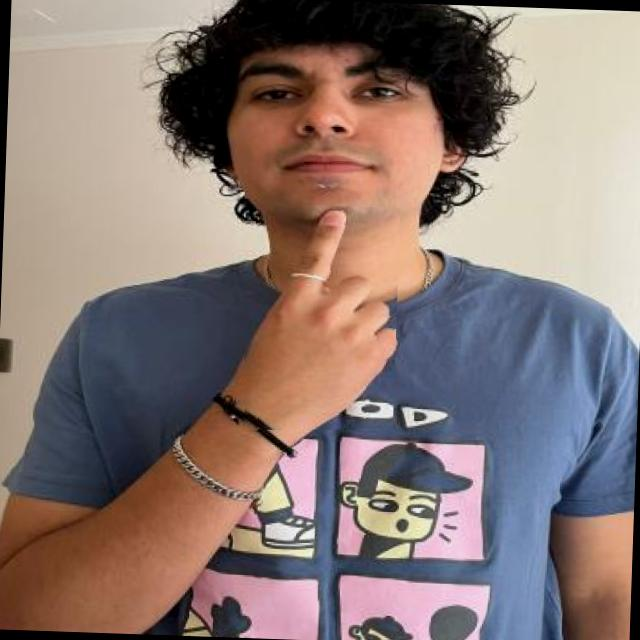T: (238, 202, 400, 434)
